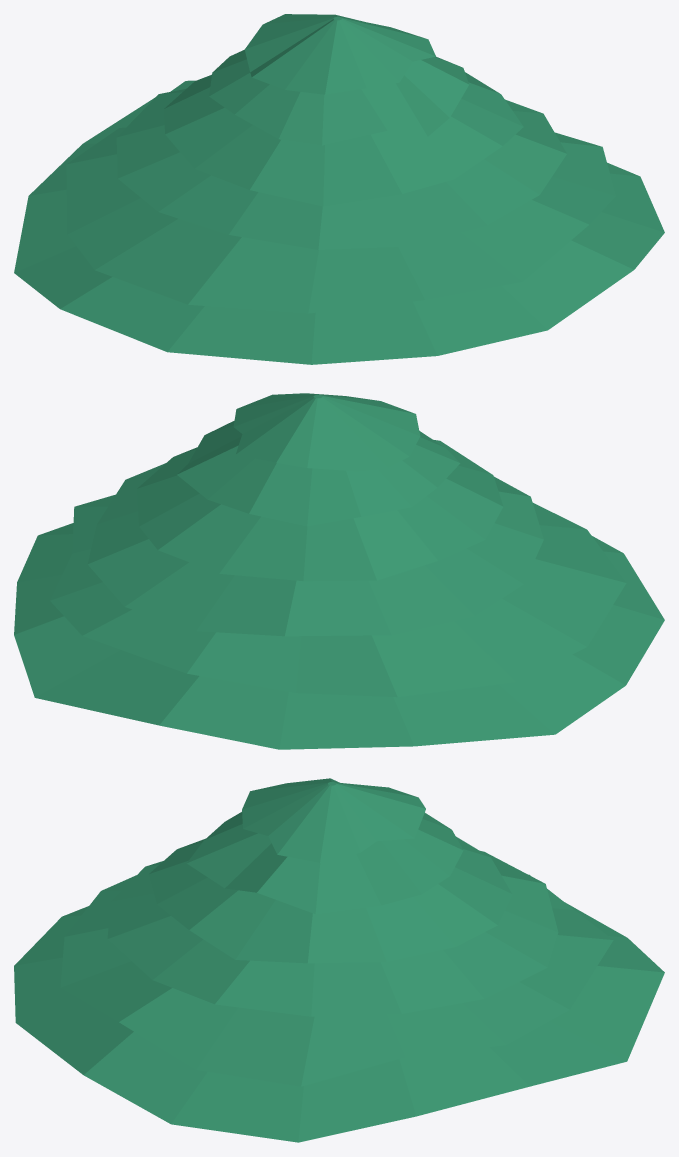
Rendered from tree2.glb.
The picture shows the model from 3 angles, top to bottom: view 1: azimuth 30°, elevation 25°; view 2: azimuth 150°, elevation 25°; view 3: azimuth 270°, elevation 25°; orthographic projection. The views are drawn at different scales.
Parts seen in each view (by area): view 1: tree1; view 2: tree1; view 3: tree1.
Boxes of the visible parts, bbox=[...] form: tree1: bbox=[14, 14, 664, 364]; tree1: bbox=[14, 393, 664, 749]; tree1: bbox=[14, 778, 664, 1142].
Size of the model in its own units: 5.7 by 2.47 by 5.55.
Materials: 1 (1 with a texture image).
